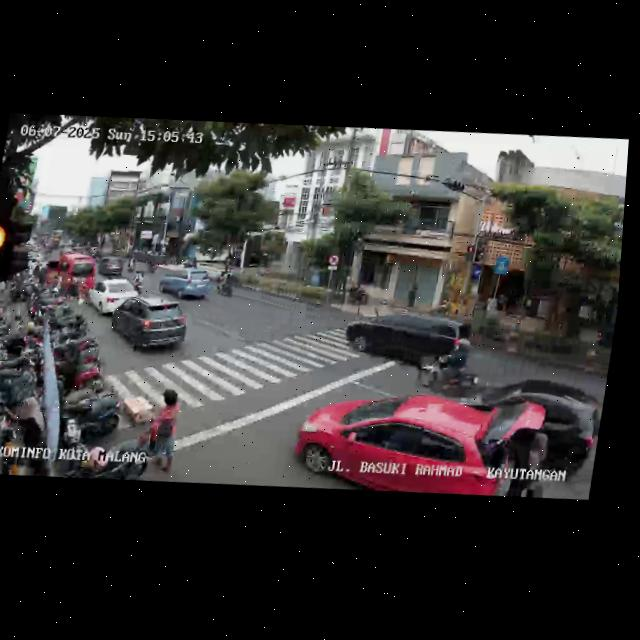car: (288, 377, 510, 505), (435, 371, 602, 492), (342, 302, 474, 380), (103, 293, 192, 360), (37, 250, 97, 301), (155, 264, 216, 306), (83, 275, 139, 318), (94, 253, 127, 279)
motorcycle: (418, 334, 491, 404), (215, 268, 238, 299), (131, 271, 146, 295)
person: (493, 399, 555, 498), (143, 385, 187, 477)
